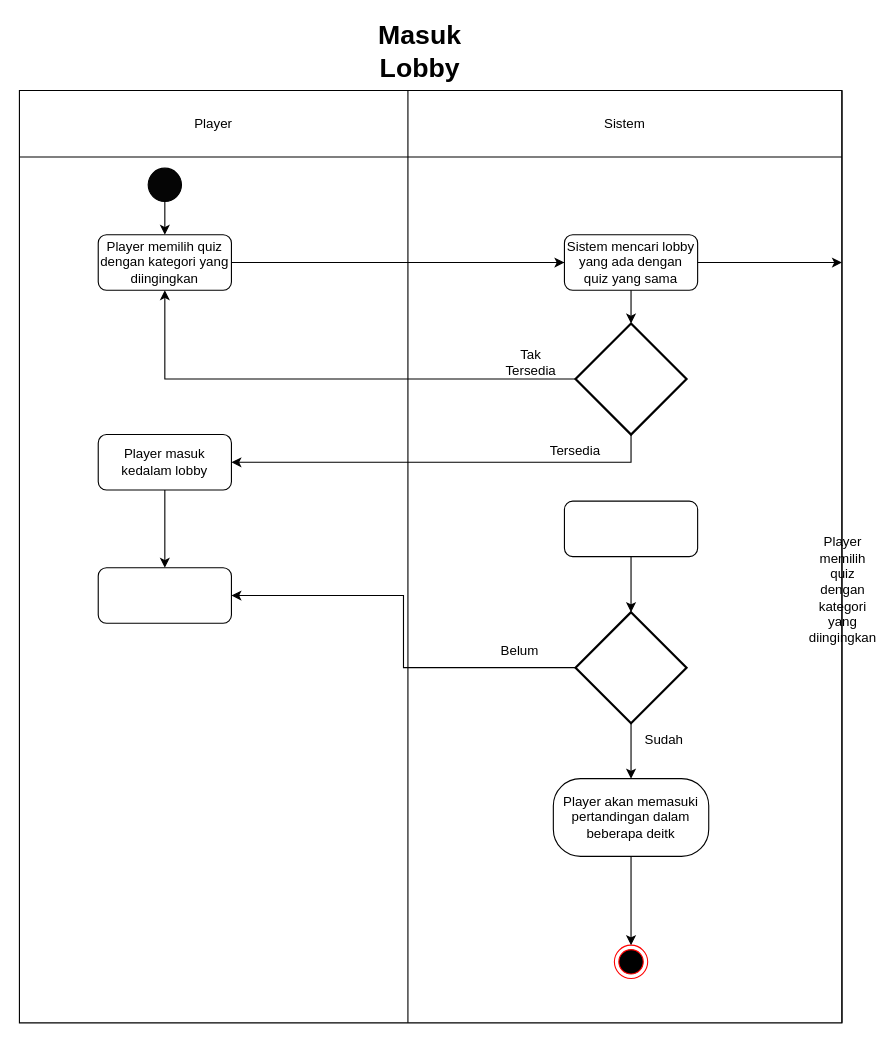
Image size: 896x1042. Some labels were removed from this diagram. Here are the shapes that lost their labels. From the top down, the centre of each, then its label:
At point (630, 528): "Sistem menunggu semua player bersiap".
At point (164, 595): "Player bersiap untuk memulai quiz".
